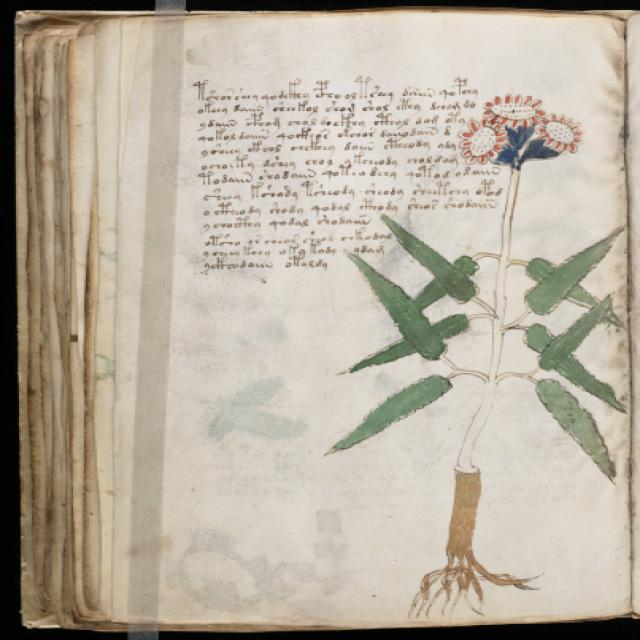plant: (330, 87, 633, 618)
